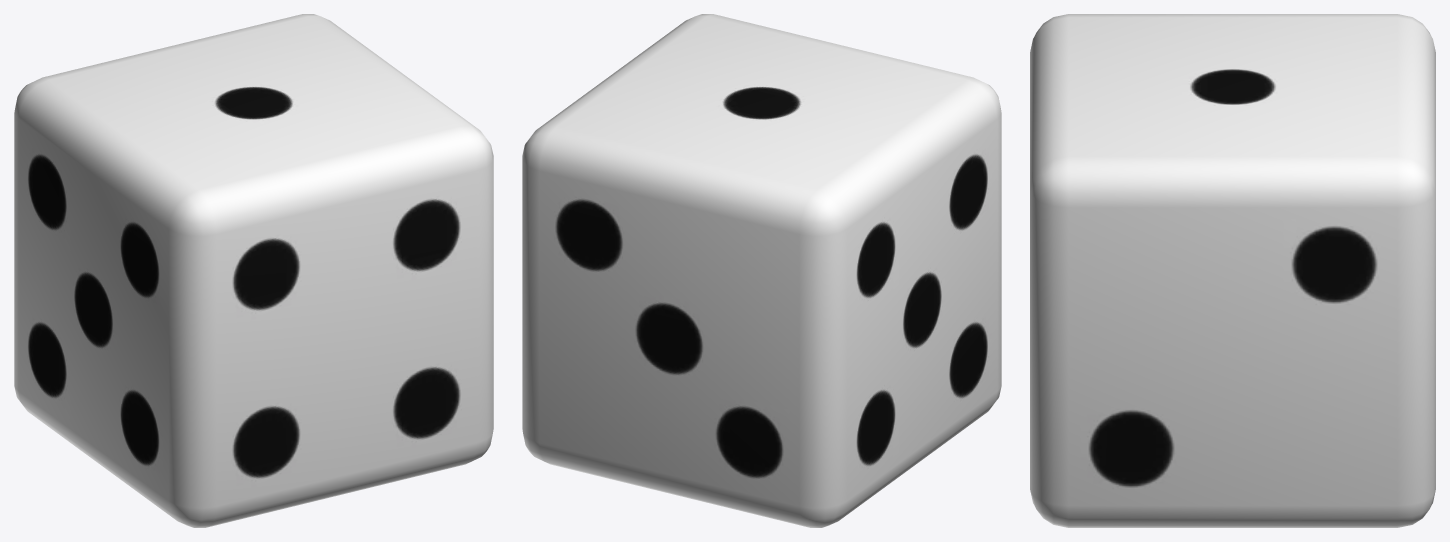
Rendered from dicesimple-opt.glb.
3 renders of one model, left to right at view 1: azimuth 30°, elevation 25°; view 2: azimuth 150°, elevation 25°; view 3: azimuth 270°, elevation 25°, orthographic. The views are drawn at different scales.
Visible parts, largest first — view 1: Object_4; view 2: Object_4; view 3: Object_4.
Part boxes in pixels (bbox=[...]): Object_4: bbox=[14, 14, 493, 527]; Object_4: bbox=[522, 14, 1001, 527]; Object_4: bbox=[1030, 14, 1435, 527].
Bounding box in the file's own units: 0.8464 × 0.8464 × 0.8464.
Materials: 1 (1 with a texture image).
